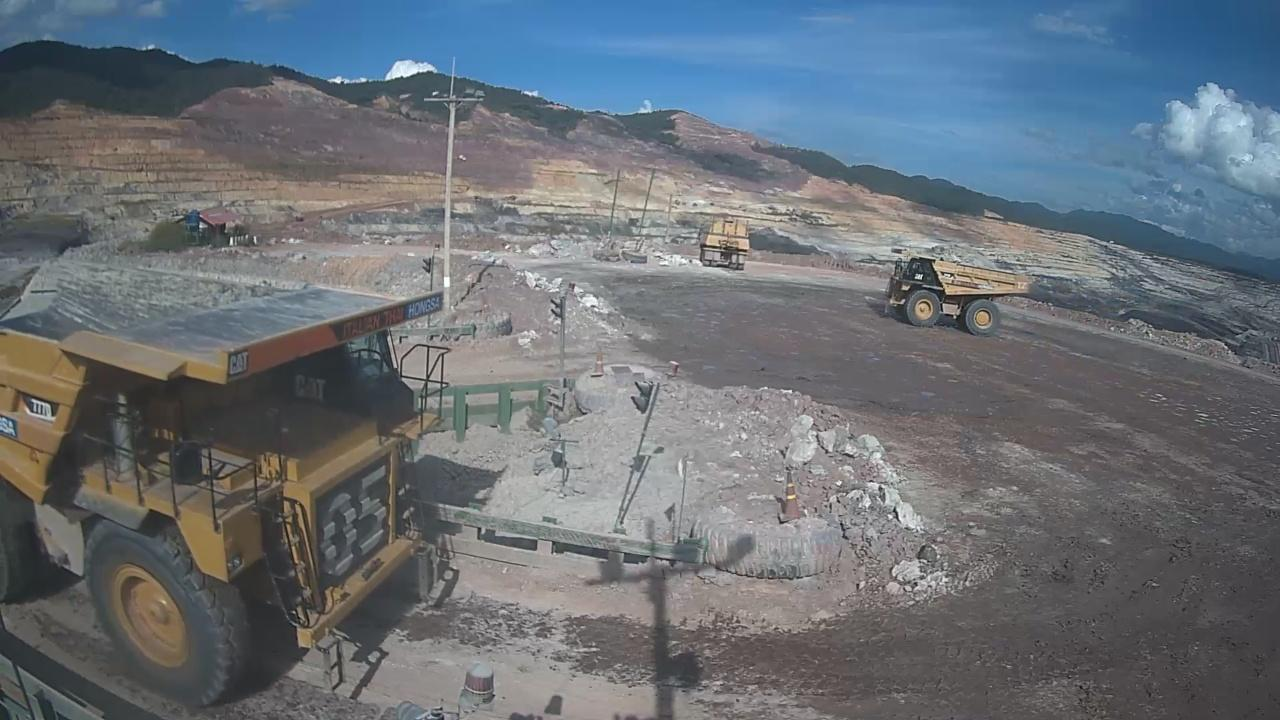empty_load: (0, 270, 214, 343)
front_number: (313, 467, 398, 571)
mining_truck: (0, 248, 462, 707), (883, 254, 1032, 336)
truck_size: (20, 386, 59, 424)
